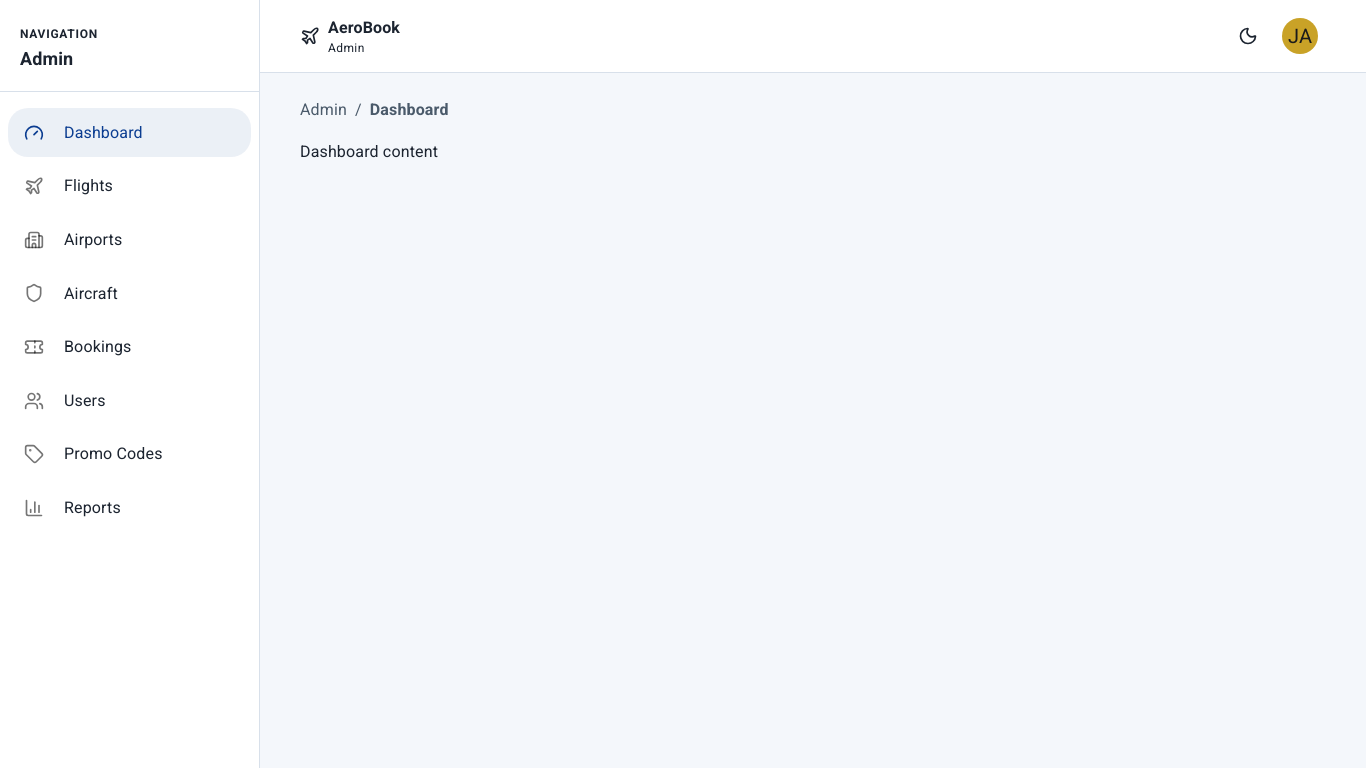
Test: AdminLayout › renders admin navigation and page content for an authenticated admin
The image size is (1366, 768).
Expected: the element showing "Admin / Dashboard Dashboard content" is shown, [300,100,449,161]
Expected: the link "Promo Codes" is shown, [24,444,163,464]
Step 1. Click the button with aria-label "Open user menu" → x=1300, y=36, box [1274,10,1326,62]
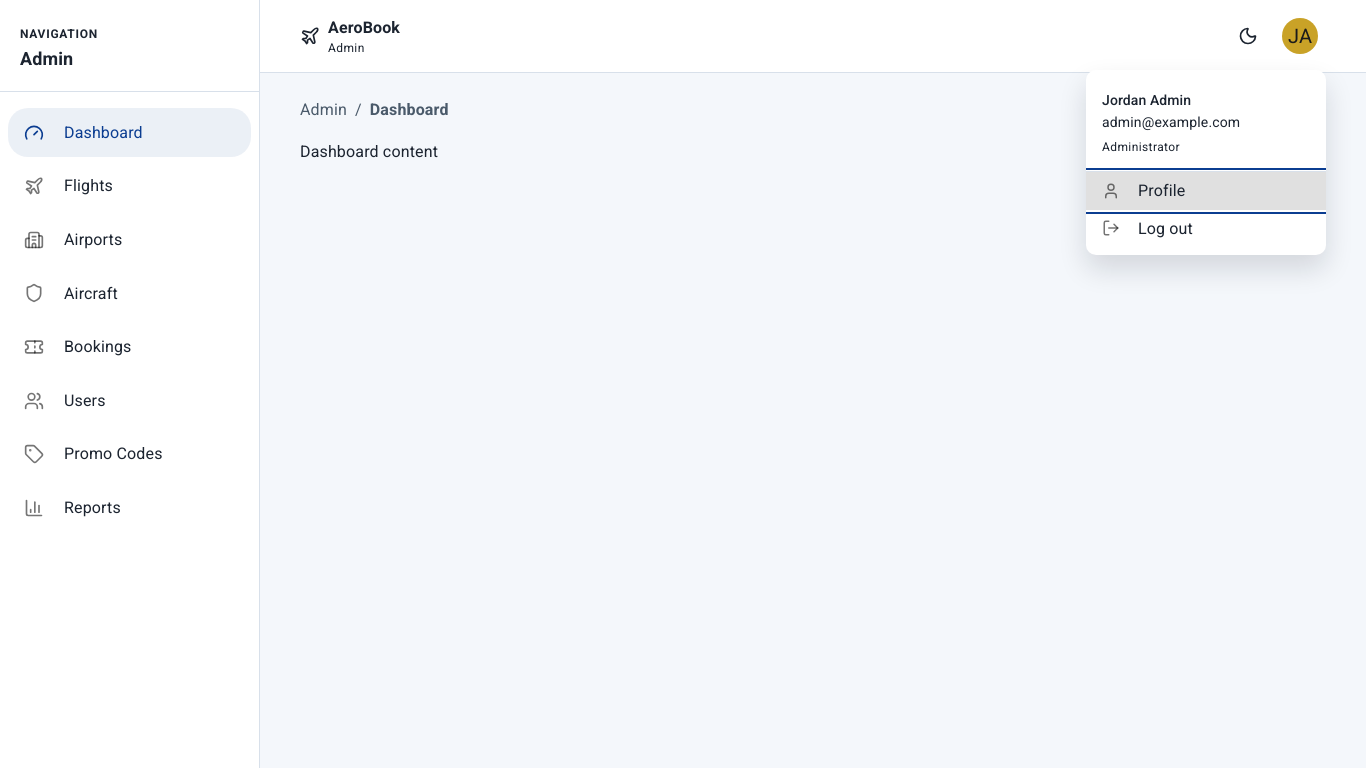
Expected: the menu item "Log out" is shown, [1102,219,1193,238]
